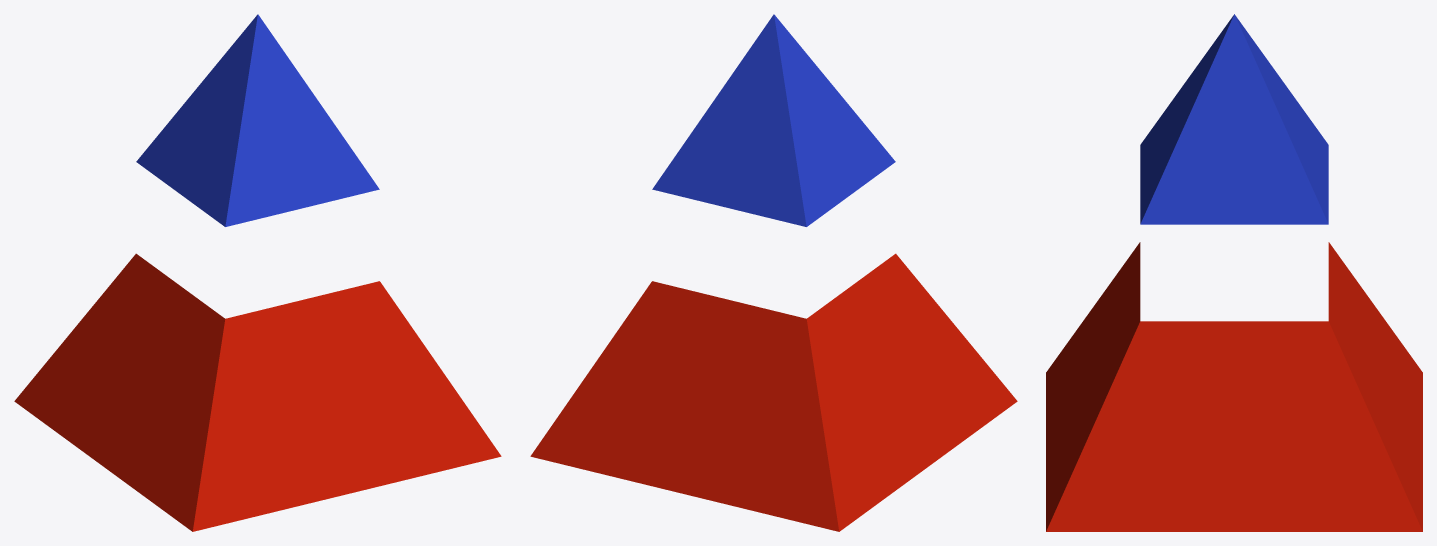
3 renders of one model, left to right at view 1: azimuth 30°, elevation 25°; view 2: azimuth 150°, elevation 25°; view 3: azimuth 270°, elevation 25°, orthographic. The views are drawn at different scales.
Visible parts, largest first — view 1: Bn, Sp; view 2: Bn, Sp; view 3: Bn, Sp.
Boxes of the visible parts, bbox=[...] form: Bn: bbox=[14, 253, 501, 531]; Sp: bbox=[136, 14, 379, 226]; Bn: bbox=[530, 253, 1017, 531]; Sp: bbox=[652, 14, 895, 226]; Bn: bbox=[1046, 242, 1422, 531]; Sp: bbox=[1140, 14, 1328, 224].
Bounding box in the file's own units: 2 × 2.57 × 2.
